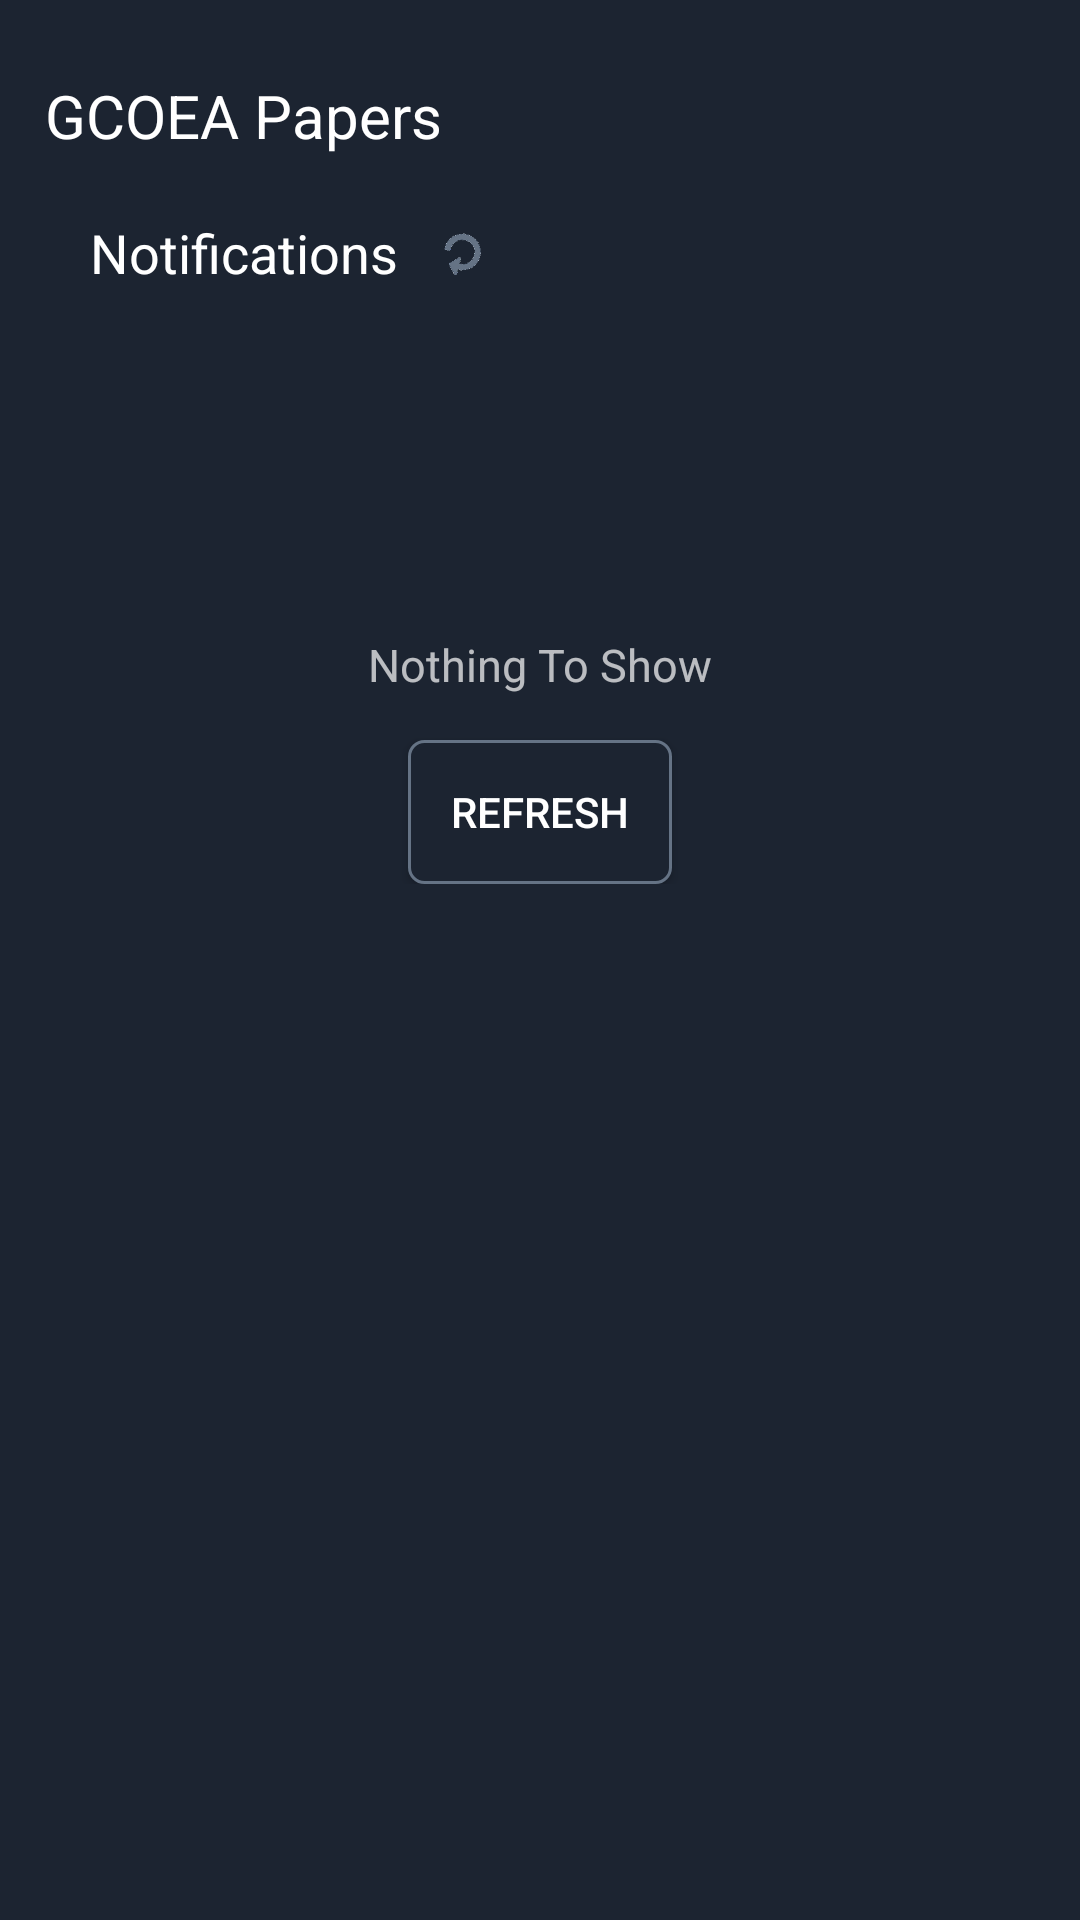

Where to tap for icons on this 1080x1920 app screen, as [x,y]:
refresh: [462,254]
